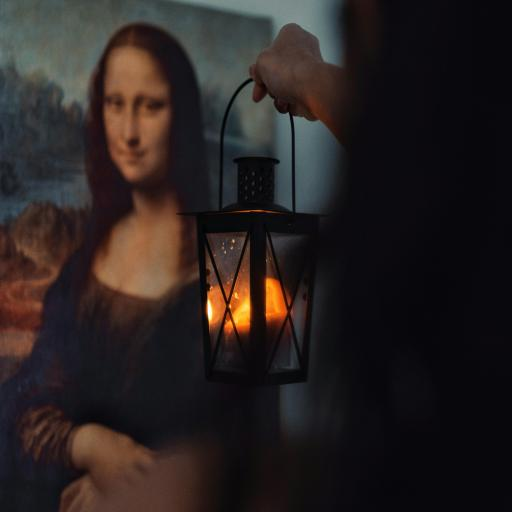candlelight: (191, 234, 337, 386)
